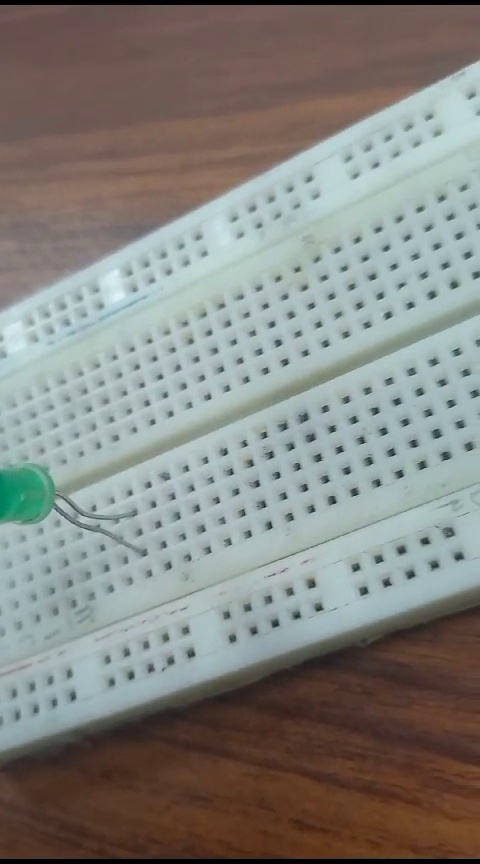LED: (2, 456, 142, 559)
